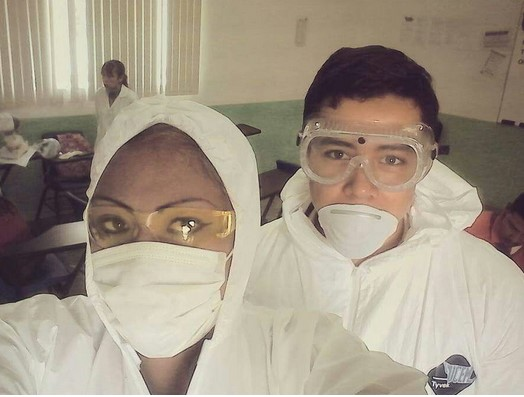face_no_mask: (98, 58, 125, 89)
face_with_mask: (81, 108, 261, 360), (293, 51, 442, 263)
